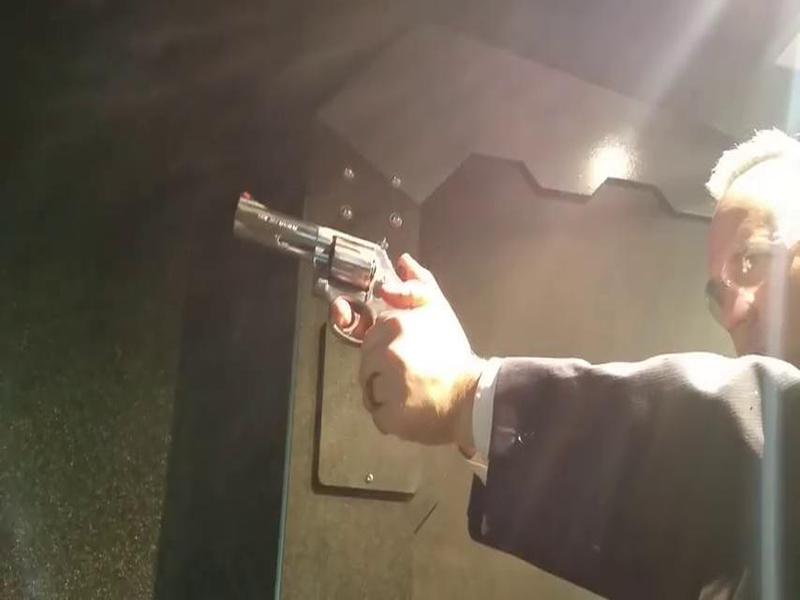Revolver: (194, 186, 431, 368)
